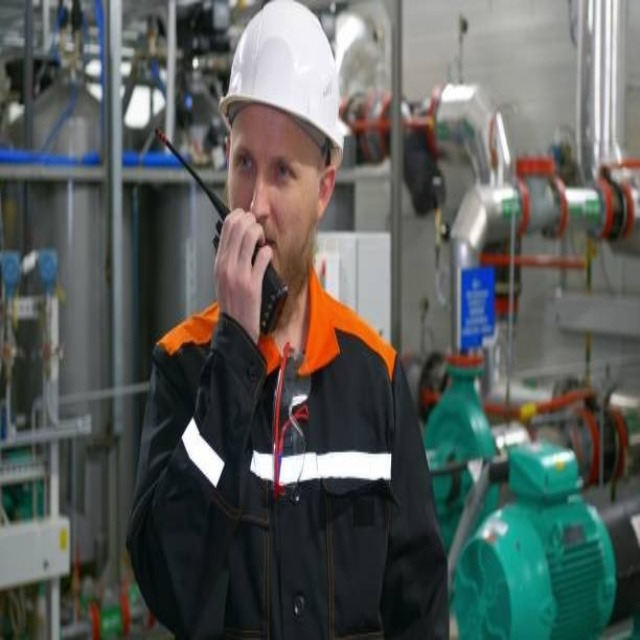Sin_gafas: (227, 123, 311, 197)
Sin_guantes: (210, 208, 270, 339)
